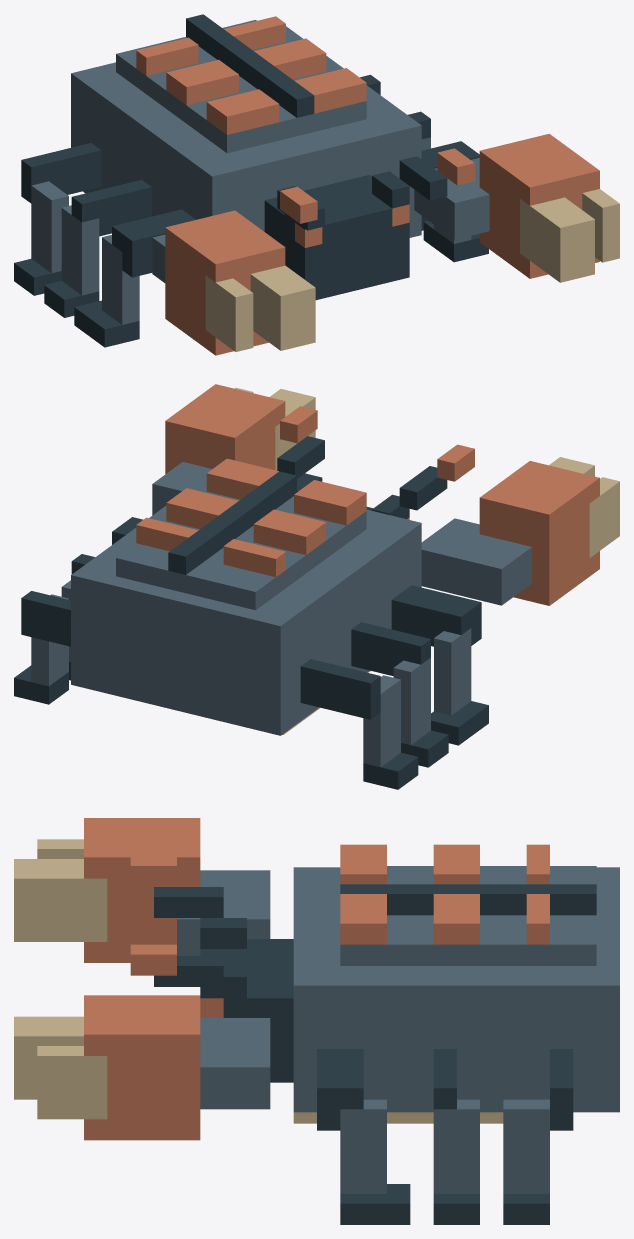
Rendered from tide_crab.glb.
3 views of the same model, one above another, from view 1: azimuth 30°, elevation 25°; view 2: azimuth 150°, elevation 25°; view 3: azimuth 270°, elevation 25° (orthographic). The views are drawn at different scales.
Parts seen in each view (by area): view 1: tide_crab/carapace, tide_crab/claw_1, tide_crab/claw_-1, tide_crab/head, tide_crab/leg_-1_2, tide_crab/leg_-1_1, tide_crab/leg_-1_0, tide_crab/antenna_1, tide_crab/leg_1_0, tide_crab/antenna_-1, tide_crab/leg_1_1; view 2: tide_crab/carapace, tide_crab/claw_-1, tide_crab/claw_1, tide_crab/leg_-1_0, tide_crab/leg_-1_2, tide_crab/leg_-1_1, tide_crab/leg_1_2, tide_crab/antenna_-1, tide_crab/antenna_1; view 3: tide_crab/carapace, tide_crab/claw_1, tide_crab/claw_-1, tide_crab/leg_1_0, tide_crab/leg_1_2, tide_crab/leg_1_1, tide_crab/head, tide_crab/antenna_-1, tide_crab/antenna_1.
Boxes of the visible parts, x1,y1,x2,y2 form: tide_crab/carapace: [71, 14, 421, 237]; tide_crab/claw_1: [414, 133, 619, 282]; tide_crab/claw_-1: [152, 210, 315, 355]; tide_crab/head: [264, 175, 409, 300]; tide_crab/leg_-1_2: [14, 143, 101, 295]; tide_crab/leg_-1_1: [44, 180, 151, 317]; tide_crab/leg_-1_0: [74, 209, 195, 347]; tide_crab/antenna_1: [372, 148, 474, 208]; tide_crab/leg_1_0: [421, 141, 488, 262]; tide_crab/antenna_-1: [277, 186, 324, 230]; tide_crab/leg_1_1: [408, 111, 430, 230]; tide_crab/carapace: [71, 458, 421, 735]; tide_crab/claw_-1: [421, 457, 619, 605]; tide_crab/claw_1: [152, 384, 315, 515]; tide_crab/leg_-1_0: [391, 585, 488, 745]; tide_crab/leg_-1_2: [300, 659, 418, 789]; tide_crab/leg_-1_1: [351, 622, 448, 767]; tide_crab/leg_1_2: [14, 591, 70, 704]; tide_crab/antenna_-1: [372, 444, 474, 519]; tide_crab/antenna_1: [277, 406, 324, 491]; tide_crab/carapace: [293, 844, 619, 1123]; tide_crab/claw_1: [14, 995, 270, 1140]; tide_crab/claw_-1: [14, 818, 270, 962]; tide_crab/leg_1_0: [317, 1049, 410, 1224]; tide_crab/leg_1_2: [503, 1049, 573, 1224]; tide_crab/leg_1_1: [433, 1049, 479, 1224]; tide_crab/head: [200, 939, 293, 1082]; tide_crab/antenna_-1: [130, 856, 246, 948]; tide_crab/antenna_1: [130, 944, 246, 998].
Bounding box in the file's own units: 0.6875 × 0.3438 × 0.8125.
